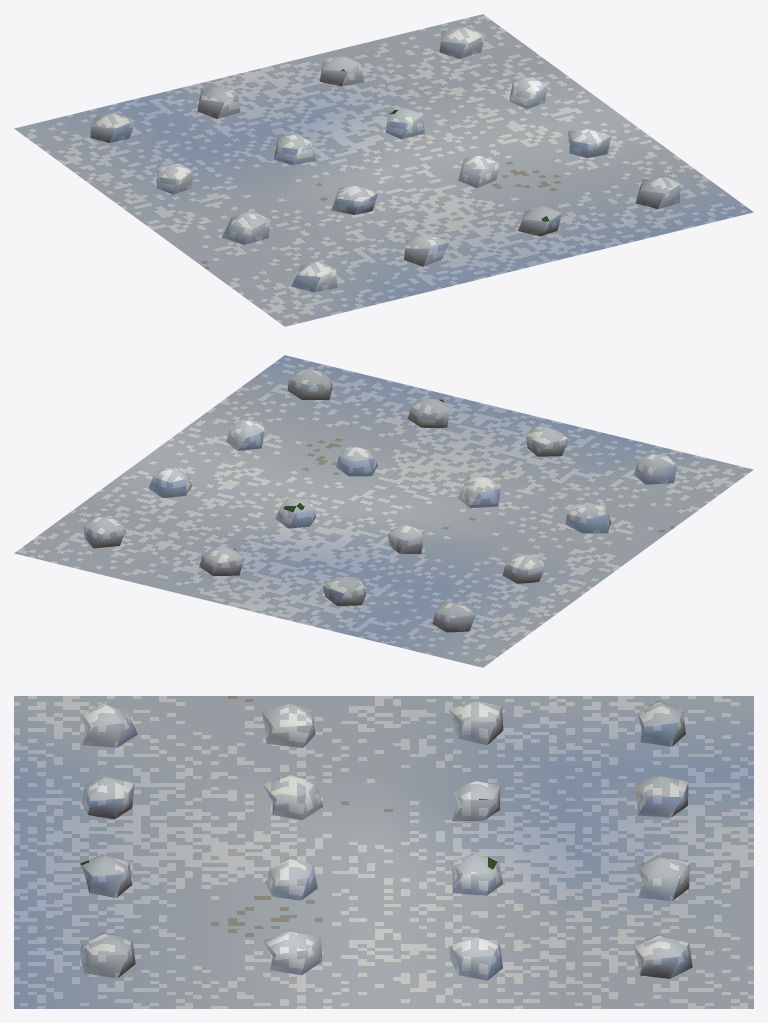
File: mnat.field__cabbage.glb
The picture shows the model from 3 angles, top to bottom: view 1: azimuth 30°, elevation 25°; view 2: azimuth 150°, elevation 25°; view 3: azimuth 270°, elevation 25°; orthographic projection. The views are drawn at different scales.
Visible parts, largest first — view 1: kit_shell_soil, kit_crop; view 2: kit_shell_soil, kit_crop; view 3: kit_shell_soil, kit_crop.
Part boxes in pixels (box(x1,y1,x2,y2)): kit_shell_soil: box(14, 14, 753, 326); kit_crop: box(90, 27, 680, 292); kit_shell_soil: box(14, 355, 753, 667); kit_crop: box(83, 369, 677, 632); kit_shell_soil: box(14, 696, 753, 1008); kit_crop: box(80, 700, 692, 980).
Bounding box in the file's own units: 8 × 0.48 × 8.
Materials: 2 (2 with a texture image).
